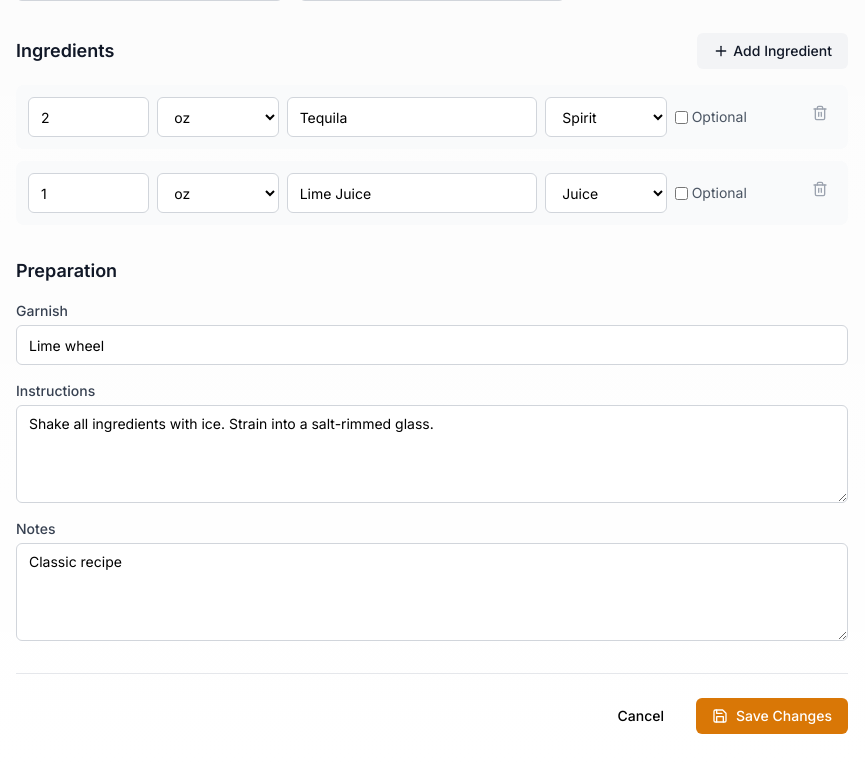
EditRecipePage › Form Submission › shows error message on failure
(page scrolled)
Click the button "Save Changes".
click(772, 716)  # box [696, 698, 848, 734]
(page scrolled)
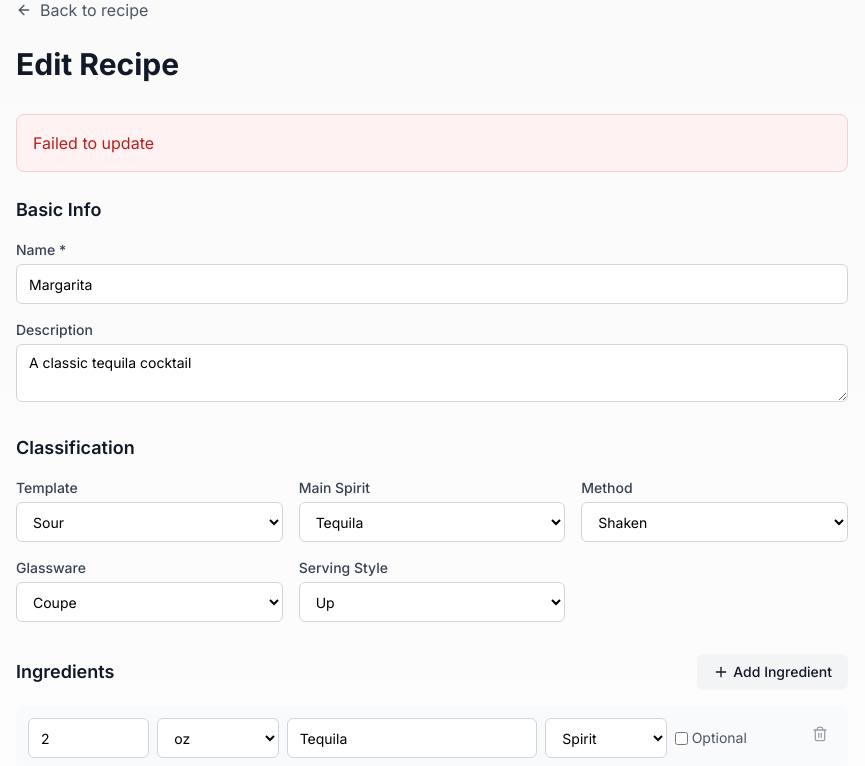
Check: the text "Failed to update" is shown, box [16, 114, 848, 172]
